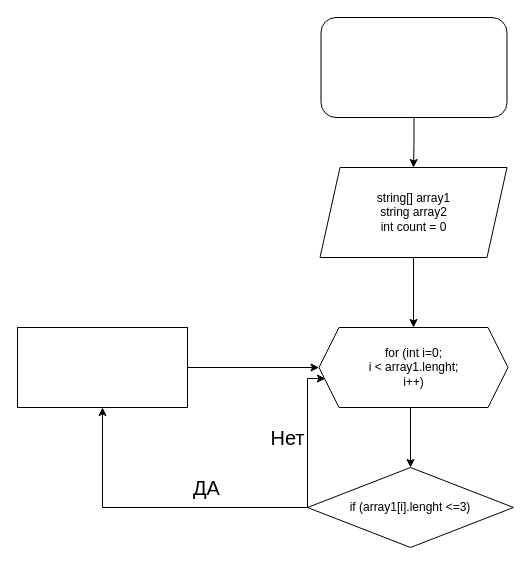
Some shapes in this 531 by 565 pixel diagram are drawn without their labels. The shapes that lost their labels are listed below. From the top down, each one's centre as x and y in pixels, then its label:
At (413,67): "SecondArrayWithif".
At (102,367): "array2[count] = array1[i] count++;".
